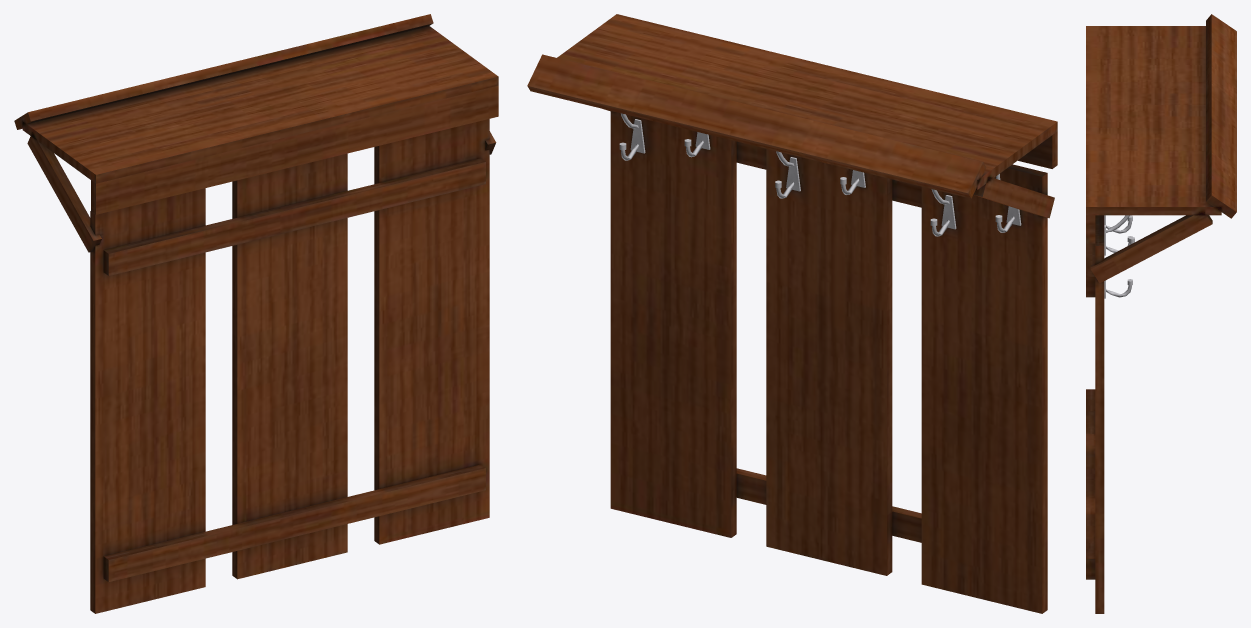
The model's file is hall_hanger_panels_lod1_web.glb.
The picture shows the model from 3 angles, left to right: view 1: azimuth 30°, elevation 25°; view 2: azimuth 150°, elevation 25°; view 3: azimuth 270°, elevation 25°; orthographic projection. The views are drawn at different scales.
Parts seen in each view (by area): view 1: HallHangerPanels_Body; view 2: HallHangerPanels_Body, Chrome_Hooks; view 3: HallHangerPanels_Body, Chrome_Hooks.
Boxes of the visible parts, x1,y1,x2,y2 form: HallHangerPanels_Body: [14, 14, 498, 613]; HallHangerPanels_Body: [527, 14, 1057, 613]; Chrome_Hooks: [619, 113, 1021, 236]; HallHangerPanels_Body: [1086, 14, 1236, 613]; Chrome_Hooks: [1104, 215, 1134, 298].
Size of the model in its own units: 0.95 by 1.03 by 0.334.
Materials: 2 (2 with a texture image).
